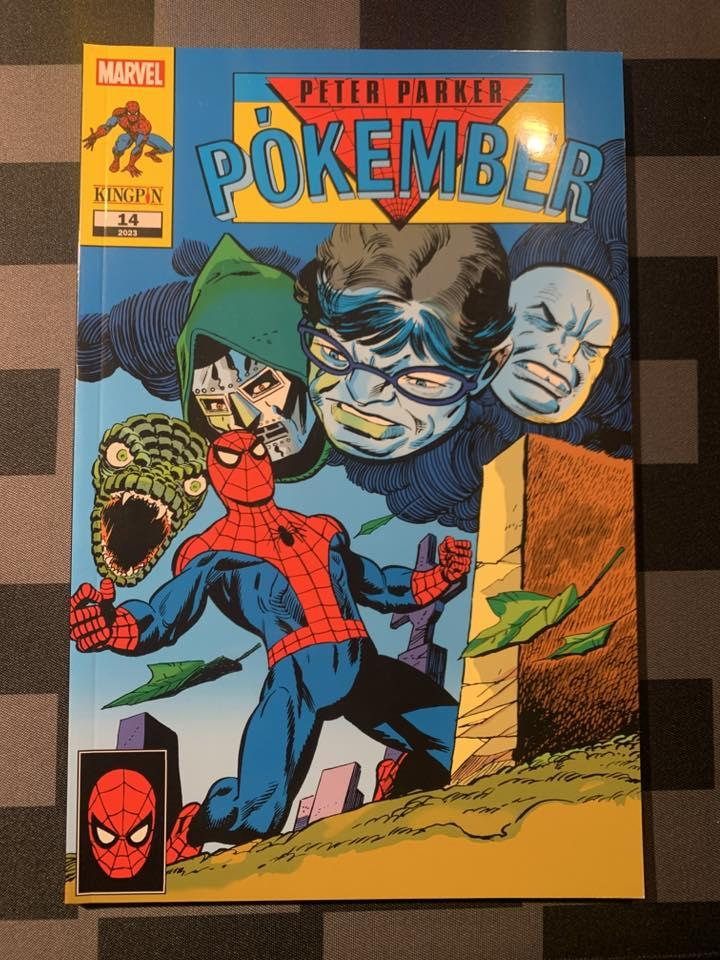comic: (66, 46, 642, 902)
